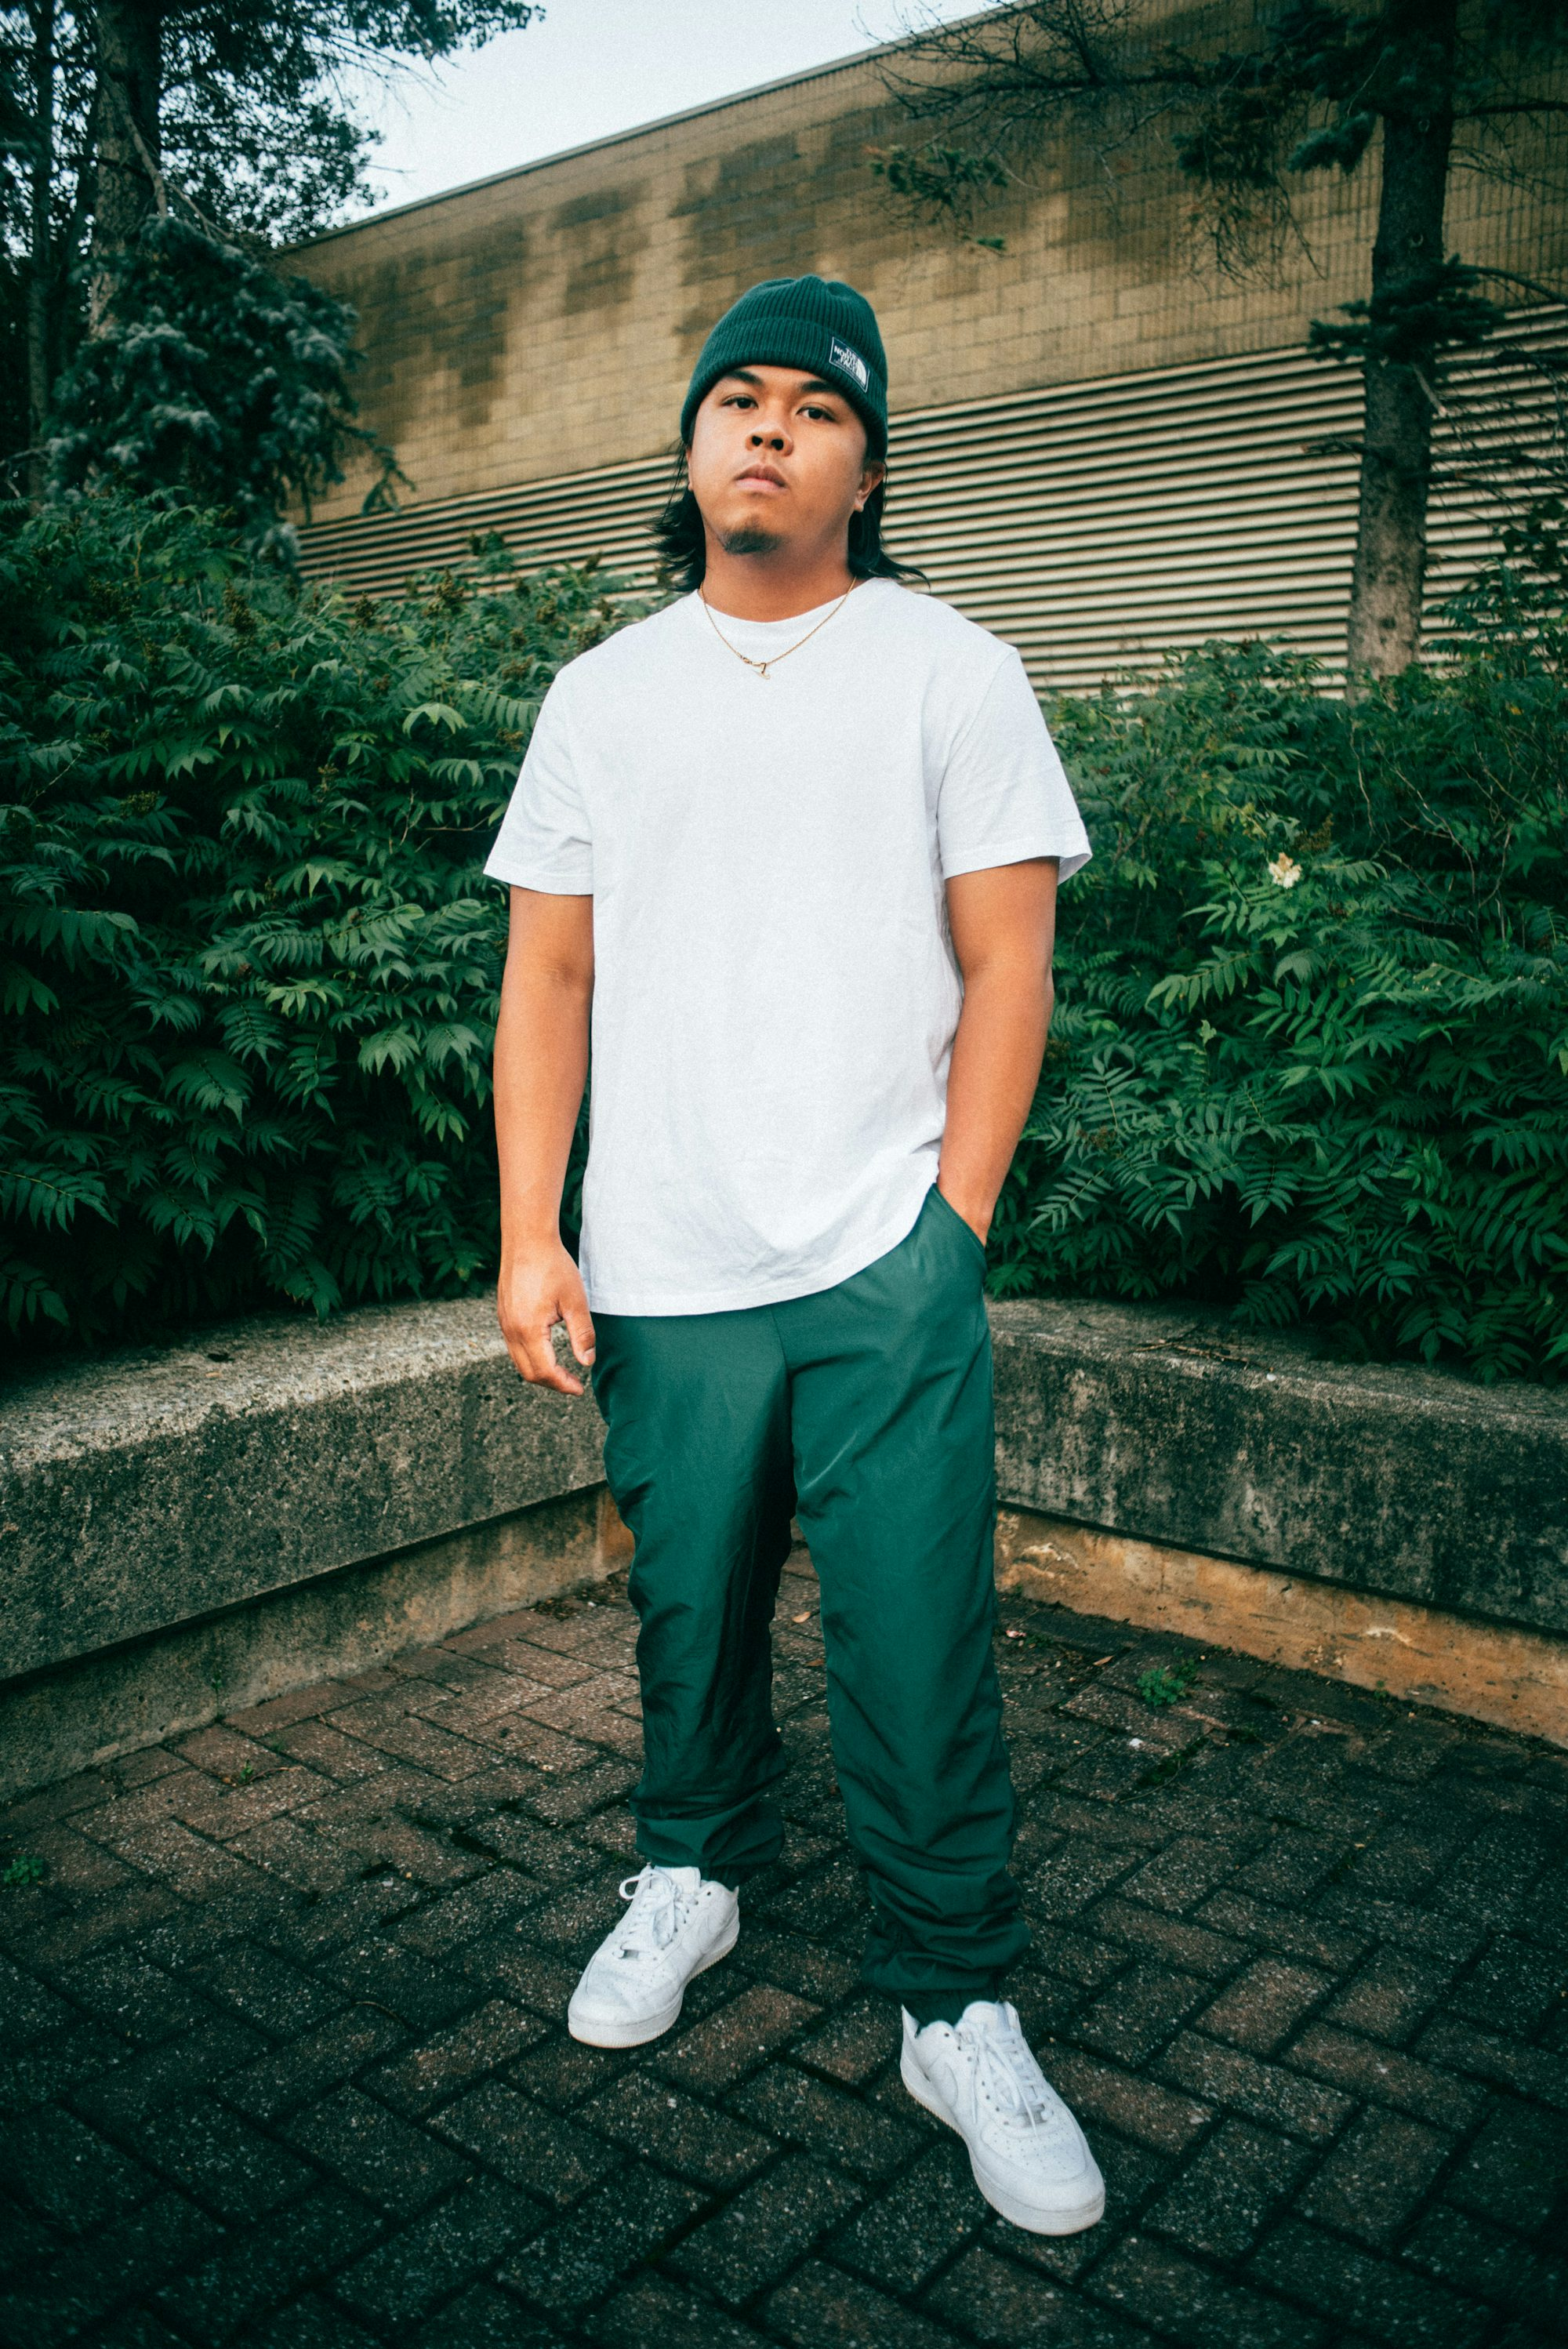person: (449, 245, 1177, 2271)
